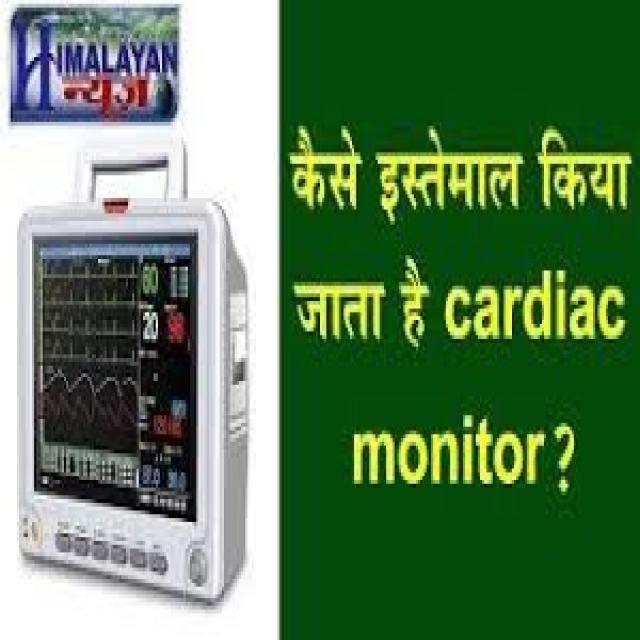cardiac_monitor: (20, 214, 219, 593)
